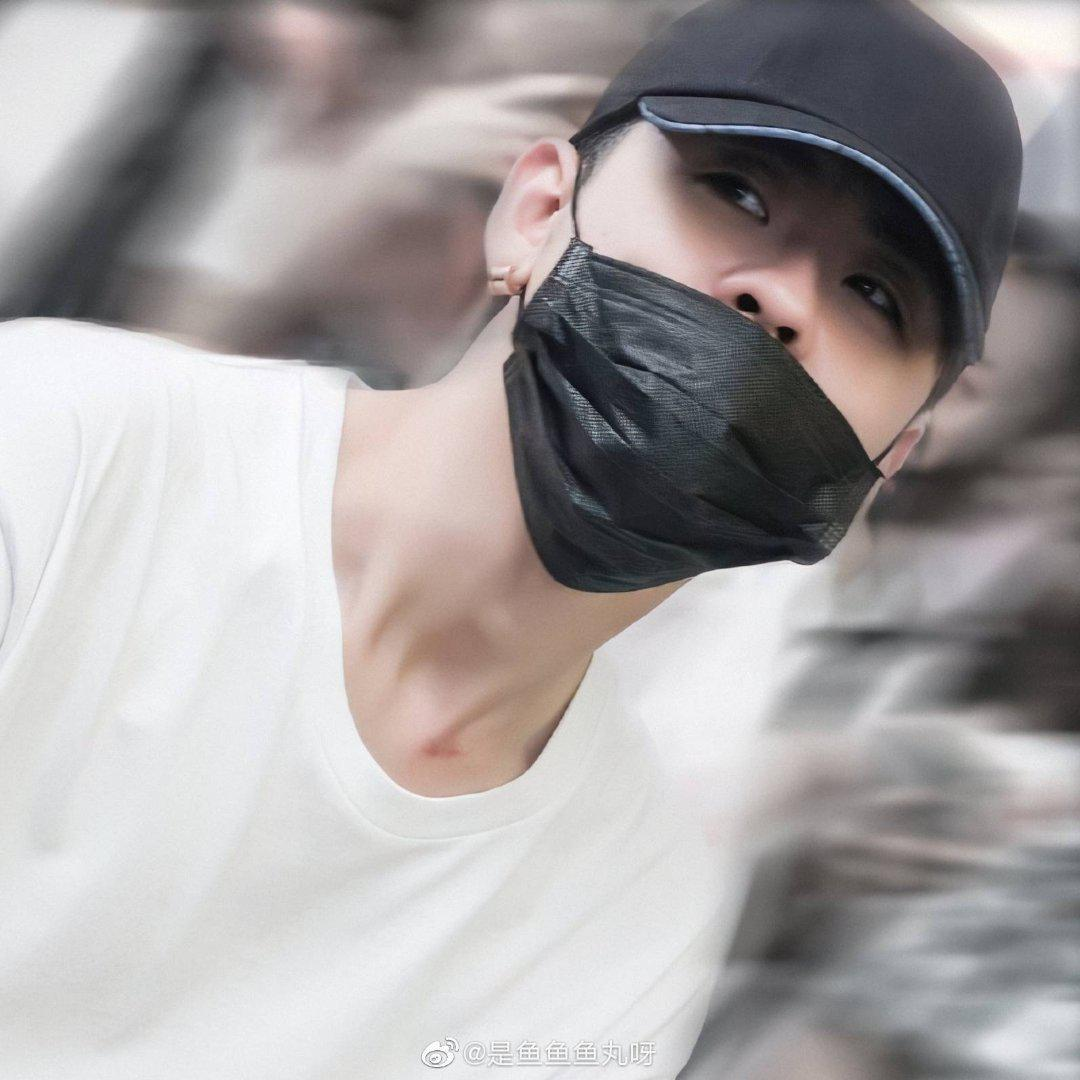WRONG: (526, 149, 940, 547)
